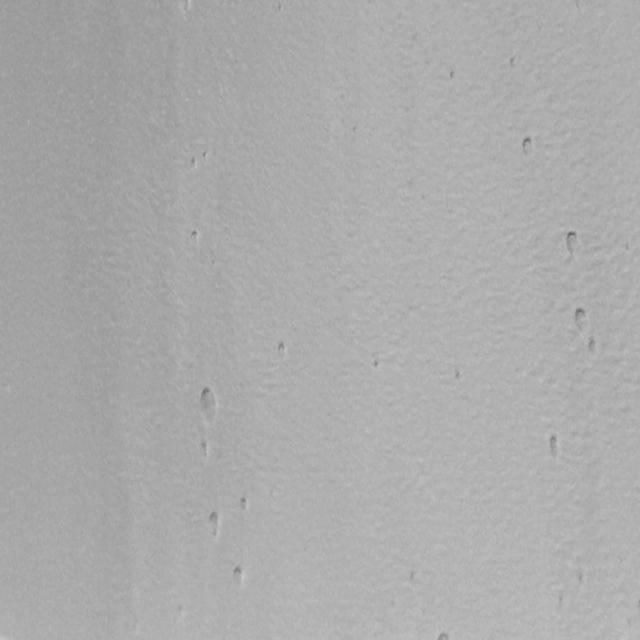pin holes: (195, 384, 222, 424), (560, 228, 584, 261), (204, 510, 225, 541), (544, 431, 566, 460), (570, 305, 591, 333), (229, 564, 249, 589), (519, 135, 539, 159), (274, 339, 294, 362), (197, 438, 214, 462), (236, 492, 254, 514), (584, 336, 602, 358), (188, 228, 204, 246), (508, 57, 520, 75), (189, 155, 201, 172), (436, 629, 455, 639), (578, 570, 588, 588), (448, 68, 459, 82), (558, 594, 564, 614), (455, 368, 462, 382), (374, 360, 380, 370)
